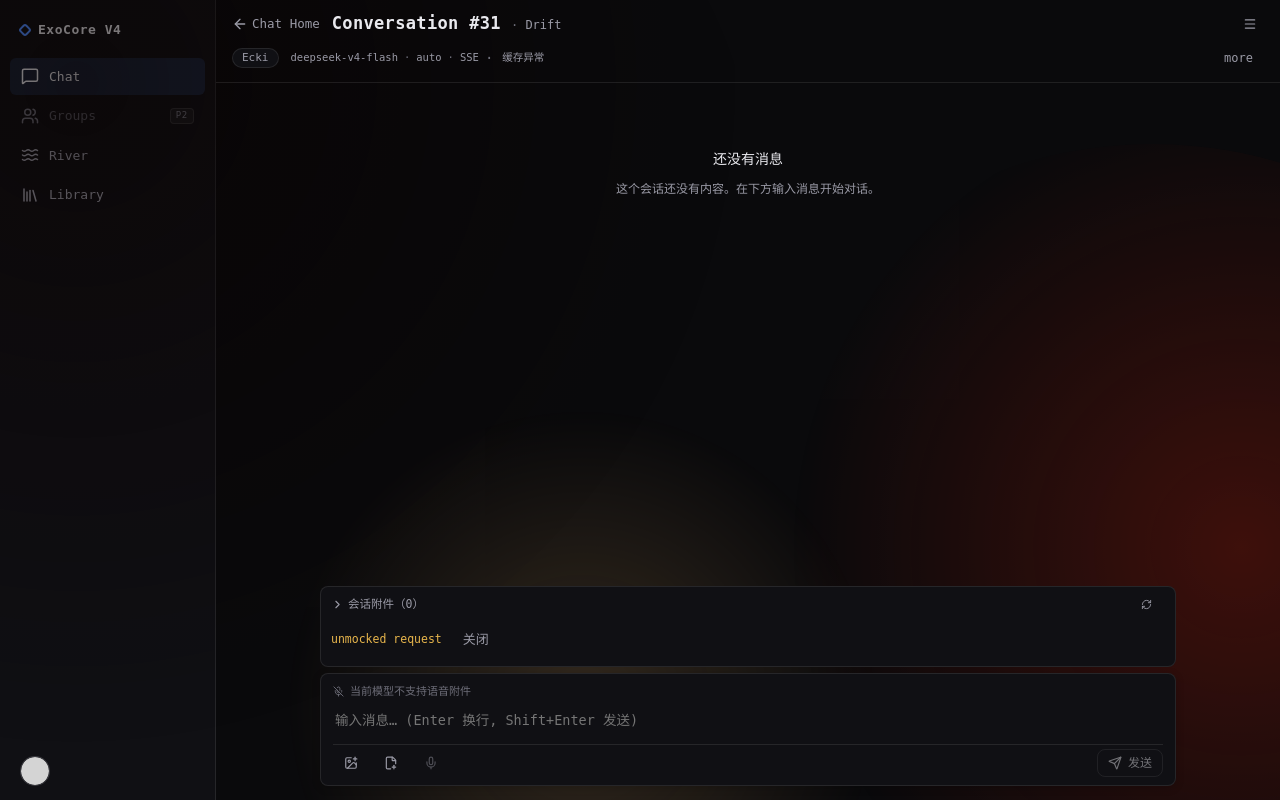
Test: P1B Chat Runtime Integration (§9.4, §9.5, §9.6, §9.7) › renders optimistic user turn and streams SSE assistant response to completion
In the text box named "消息输入框": [748, 720] box [333, 708, 1163, 732], type "你好，阿莱"
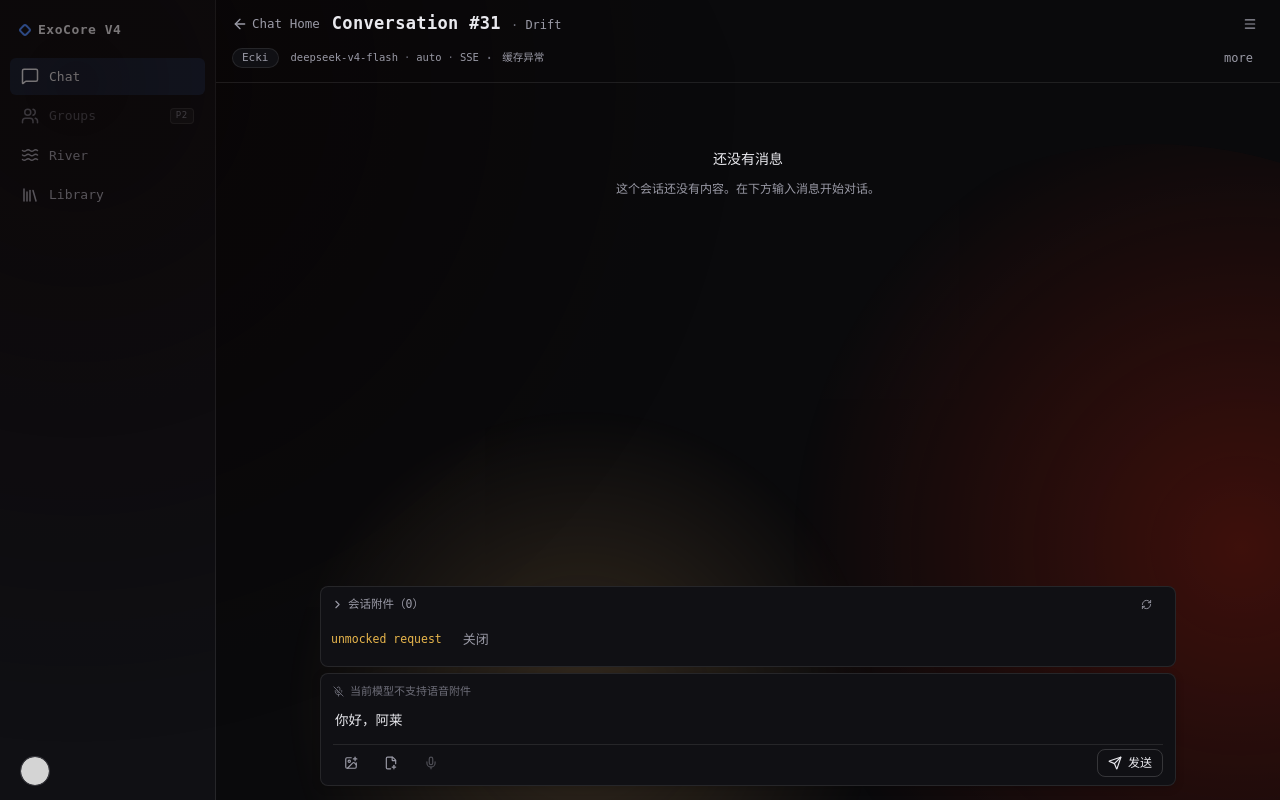
Press Enter in the text box named "消息输入框", box [333, 708, 1163, 732]
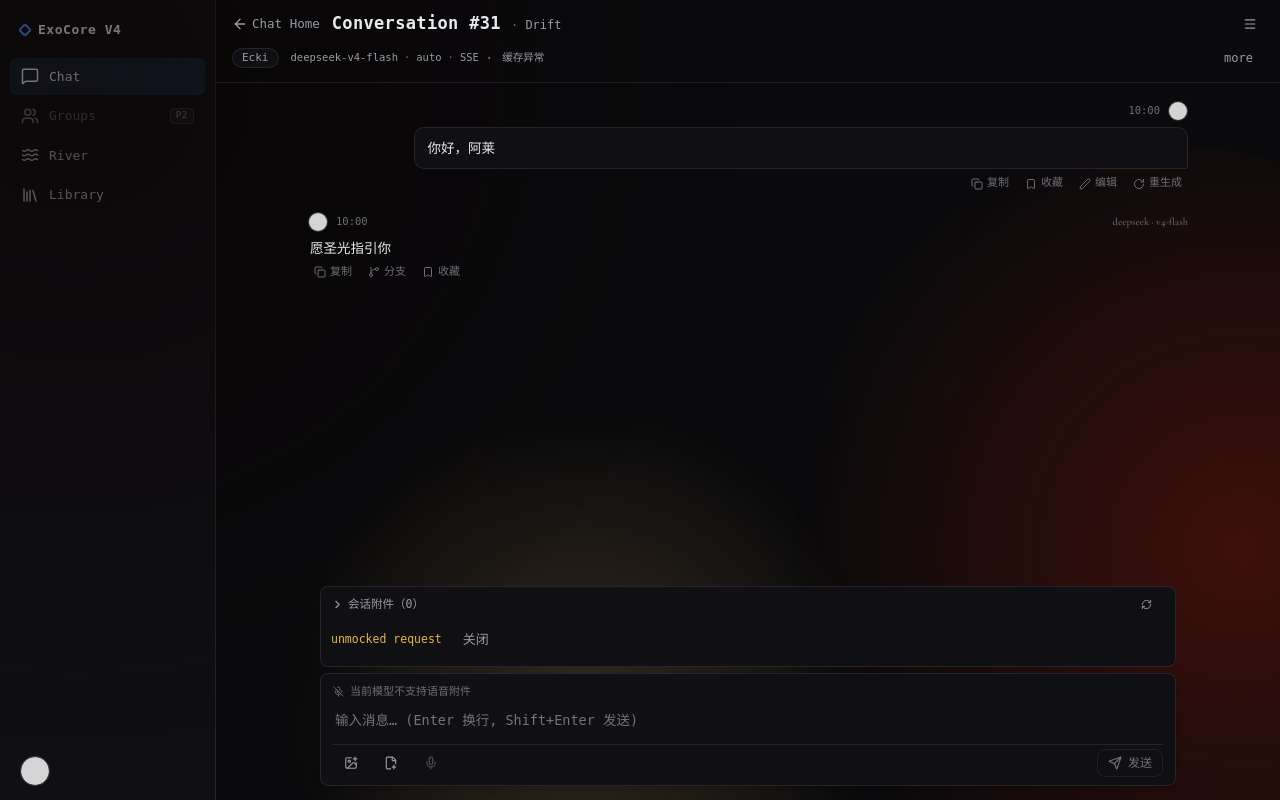
Expected: the text "你好，阿莱" is shown, [428, 140, 495, 156]
Expected: the text "愿圣光指引你" is shown, [310, 240, 391, 256]
